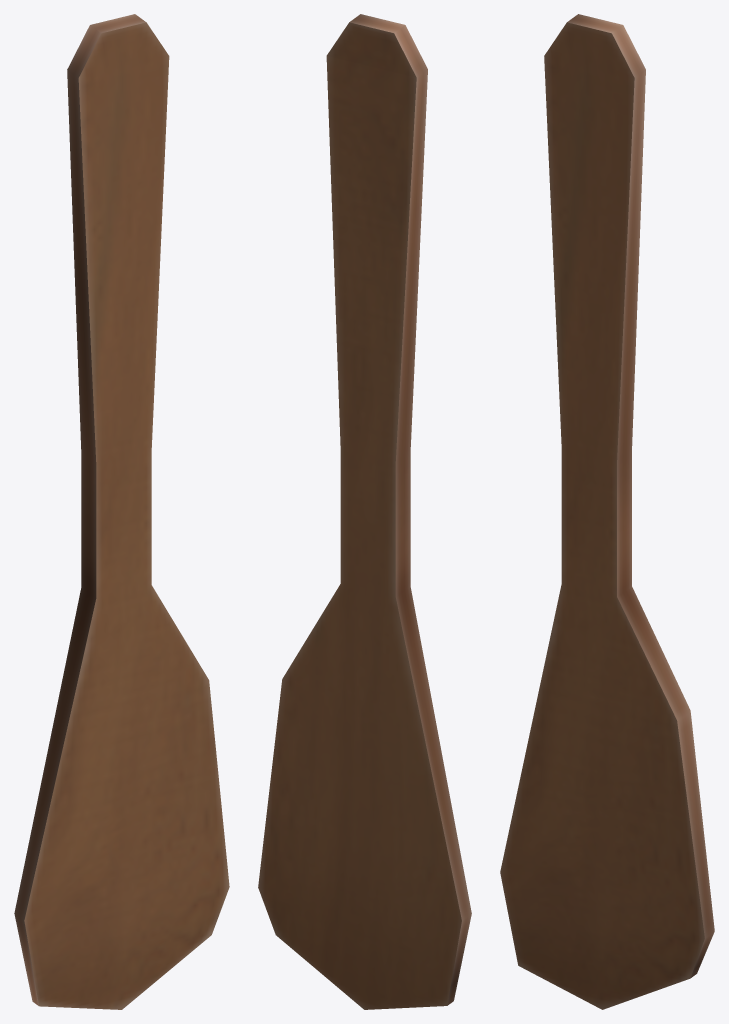
Rendered from KR_Spatula_01_01.fbx.
The picture shows the model from 3 angles, left to right: view 1: azimuth 30°, elevation 25°; view 2: azimuth 150°, elevation 25°; view 3: azimuth 330°, elevation 25°; orthographic projection.
Parts seen in each view (by area): view 1: kr_spatula_01_01; view 2: kr_spatula_01_01; view 3: kr_spatula_01_01.
Boxes of the visible parts, x1,y1,x2,y2 form: kr_spatula_01_01: (14, 14, 229, 1009); kr_spatula_01_01: (258, 14, 471, 1009); kr_spatula_01_01: (500, 14, 714, 1009).
Bounding box in the file's own units: 6.52 × 30 × 0.8279.
